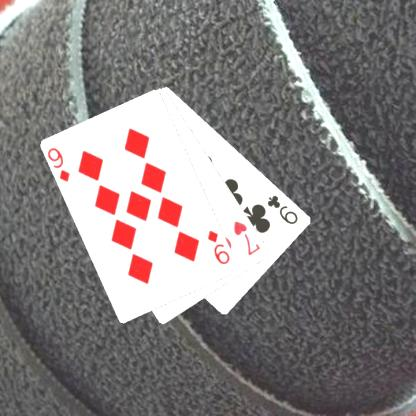7H: (231, 218, 262, 257)
9C: (264, 192, 300, 226)
9D: (205, 228, 232, 266), (46, 145, 72, 183)
